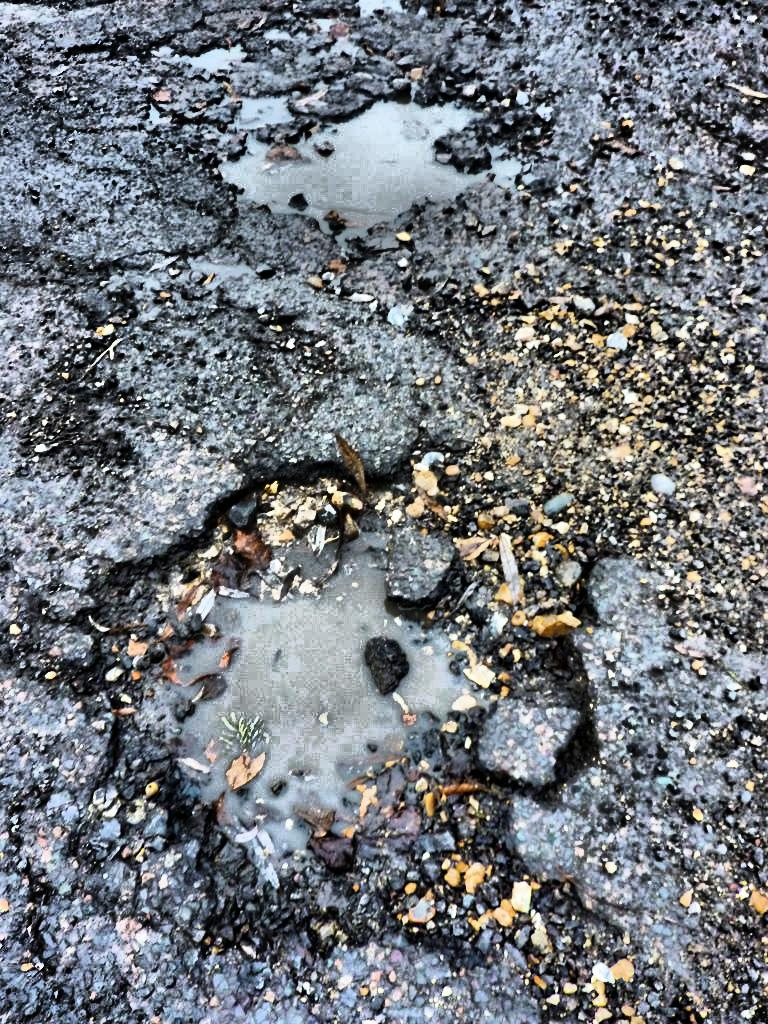pothole: (67, 440, 600, 913), (106, 23, 584, 256)
